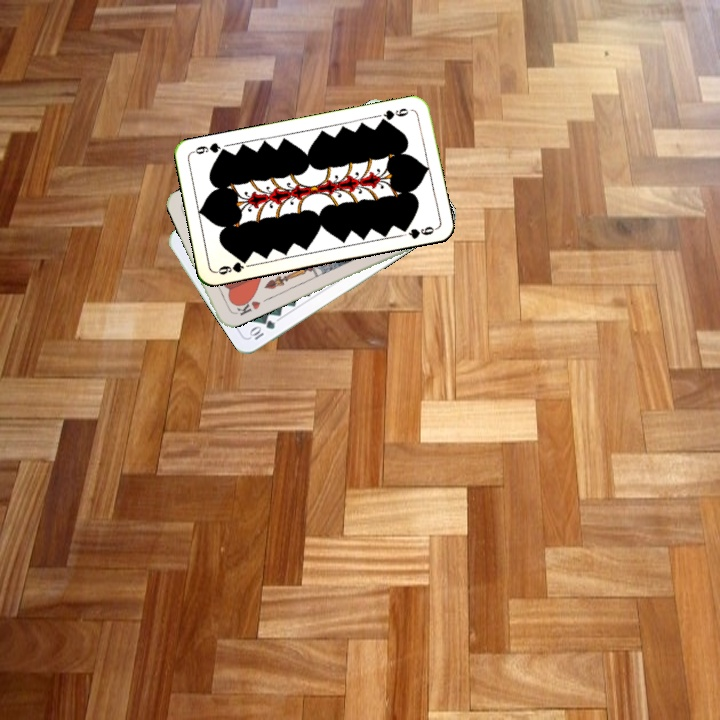G10: (245, 316, 278, 343)
G9: (212, 254, 251, 277), (375, 104, 414, 125)
HK: (229, 293, 263, 318)
